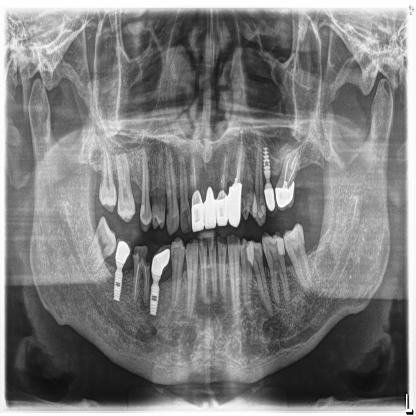Bicon: (149, 278, 161, 319), (111, 268, 125, 303), (260, 146, 274, 178)
